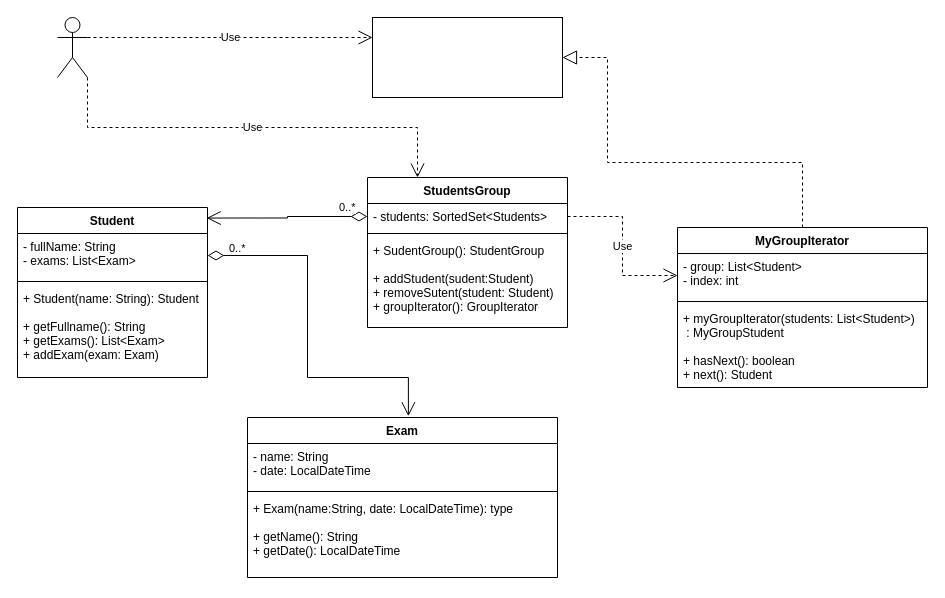
Some shapes in this 945 by 598 pixel diagram are drawn without their labels. The shapes that lost their labels are listed below. From the top down, each one's centre as x and y in pixels, then its label:
At (x=72, y=47): "Actor".
At (x=467, y=57): "<<Interface>> GroupIterator + hasNext(): boolean + next(): Student".
